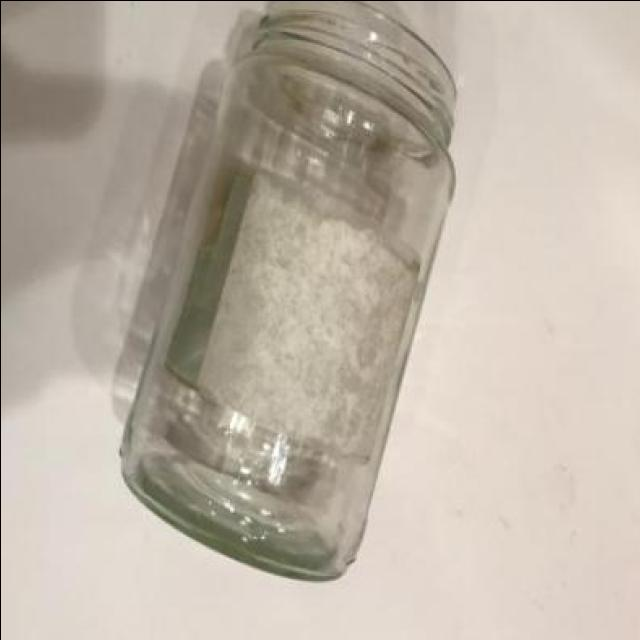kaca: (119, 0, 456, 585)
